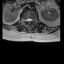CCS_normal: (28, 16, 30, 26)
LFS_normal: (32, 16, 34, 24)
LLS_normal: (30, 16, 32, 24)
RFS_normal: (24, 16, 26, 23)
RLS_normal: (26, 16, 28, 24)
